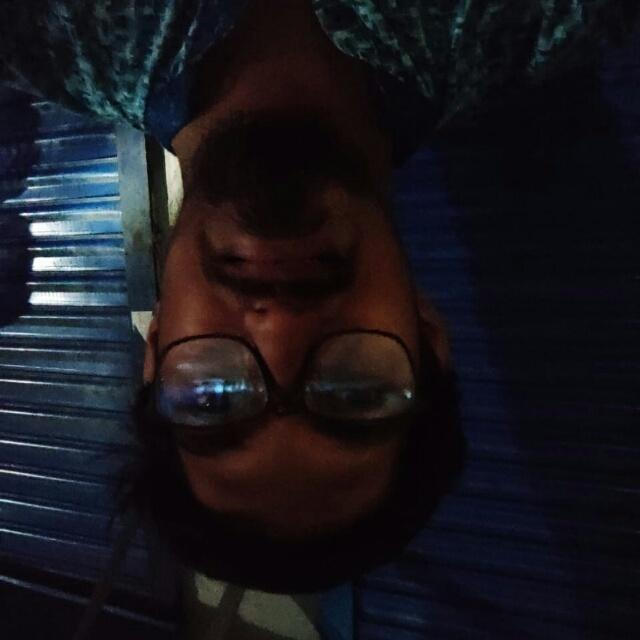Disgust: (89, 97, 516, 604)
